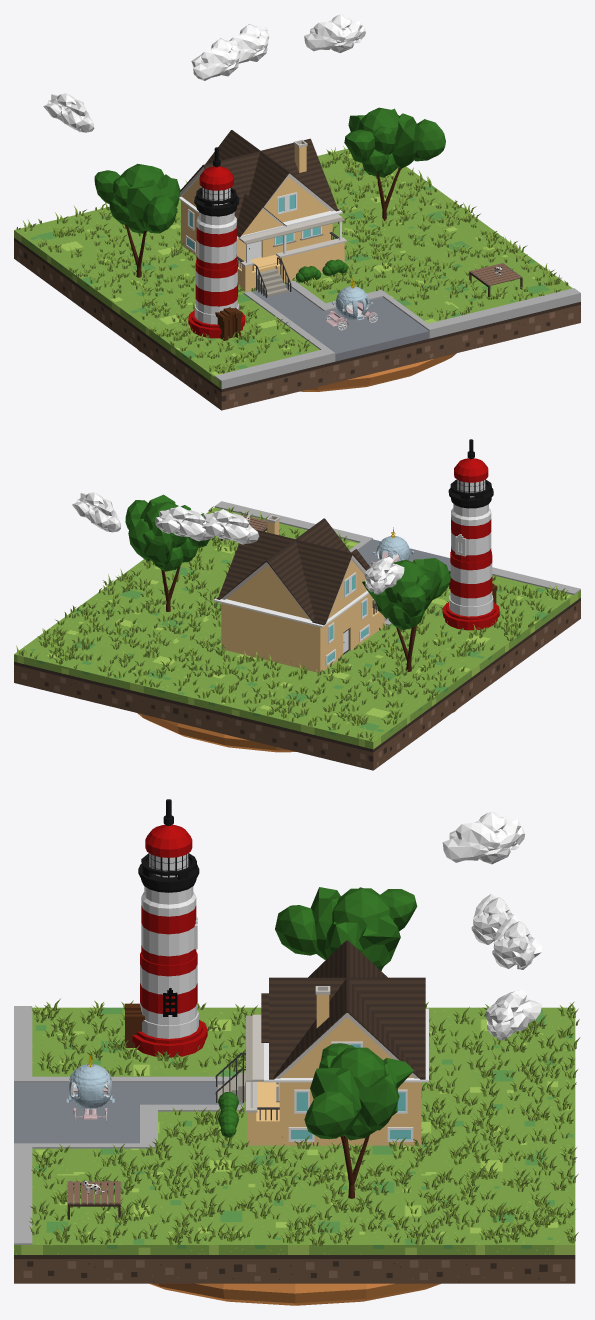
3 renders of one model, top to bottom at view 1: azimuth 30°, elevation 25°; view 2: azimuth 150°, elevation 25°; view 3: azimuth 270°, elevation 25°, orthographic. The views are drawn at different scales.
Parts seen in each view (by area): view 1: Cube.006, Circle.012_Grass_0.192, Cube.235, OBJRANDOM_LIGHTHOUSE, Cube.007, tree, tree.001, UNDERGROUND_PIZZA, VEHICLES_FANTASY_CARRIAGE, Cube.009; view 2: Cube.006, Cube.235, Circle.012_Grass_0.192, OBJRANDOM_LIGHTHOUSE, Cube.007, tree.001, tree, UNDERGROUND_PIZZA, VEHICLES_FANTASY_CARRIAGE; view 3: Cube.006, Circle.012_Grass_0.192, Cube.235, OBJRANDOM_LIGHTHOUSE, tree, Cube.007, tree.001, UNDERGROUND_PIZZA, VEHICLES_FANTASY_CARRIAGE, Cube.009.
Boxes of the visible parts, x1=… form: Cube.006: x1=14, y1=148, x2=580, y2=410; Circle.012_Grass_0.192: x1=16, y1=146, x2=568, y2=373; Cube.235: x1=179, y1=130, x2=346, y2=297; OBJRANDOM_LIGHTHOUSE: x1=188, y1=147, x2=245, y2=340; Cube.007: x1=43, y1=14, x2=365, y2=132; tree: x1=344, y1=107, x2=445, y2=220; tree.001: x1=94, y1=163, x2=180, y2=277; UNDERGROUND_PIZZA: x1=137, y1=349, x2=456, y2=391; VEHICLES_FANTASY_CARRIAGE: x1=326, y1=278, x2=377, y2=330; Cube.009: x1=469, y1=263, x2=522, y2=296; Cube.006: x1=14, y1=501, x2=580, y2=770; Cube.235: x1=214, y1=515, x2=384, y2=672; Circle.012_Grass_0.192: x1=16, y1=506, x2=567, y2=740; OBJRANDOM_LIGHTHOUSE: x1=442, y1=439, x2=499, y2=630; Cube.007: x1=72, y1=492, x2=404, y2=594; tree.001: x1=362, y1=558, x2=450, y2=671; tree: x1=125, y1=494, x2=209, y2=611; UNDERGROUND_PIZZA: x1=137, y1=709, x2=457, y2=752; VEHICLES_FANTASY_CARRIAGE: x1=368, y1=527, x2=414, y2=566; Cube.006: x1=14, y1=1006, x2=575, y2=1283; Circle.012_Grass_0.192: x1=29, y1=998, x2=580, y2=1246; Cube.235: x1=215, y1=940, x2=428, y2=1145; OBJRANDOM_LIGHTHOUSE: x1=125, y1=799, x2=207, y2=1057; tree: x1=304, y1=1043, x2=413, y2=1198; Cube.007: x1=442, y1=811, x2=541, y2=1040; tree.001: x1=275, y1=887, x2=417, y2=970; UNDERGROUND_PIZZA: x1=149, y1=1283, x2=440, y2=1305; VEHICLES_FANTASY_CARRIAGE: x1=66, y1=1053, x2=114, y2=1123; Cube.009: x1=67, y1=1180, x2=120, y2=1219.
Size of the model in its own units: 4071 by 2499 by 4040.
41 materials, 3 textured.
